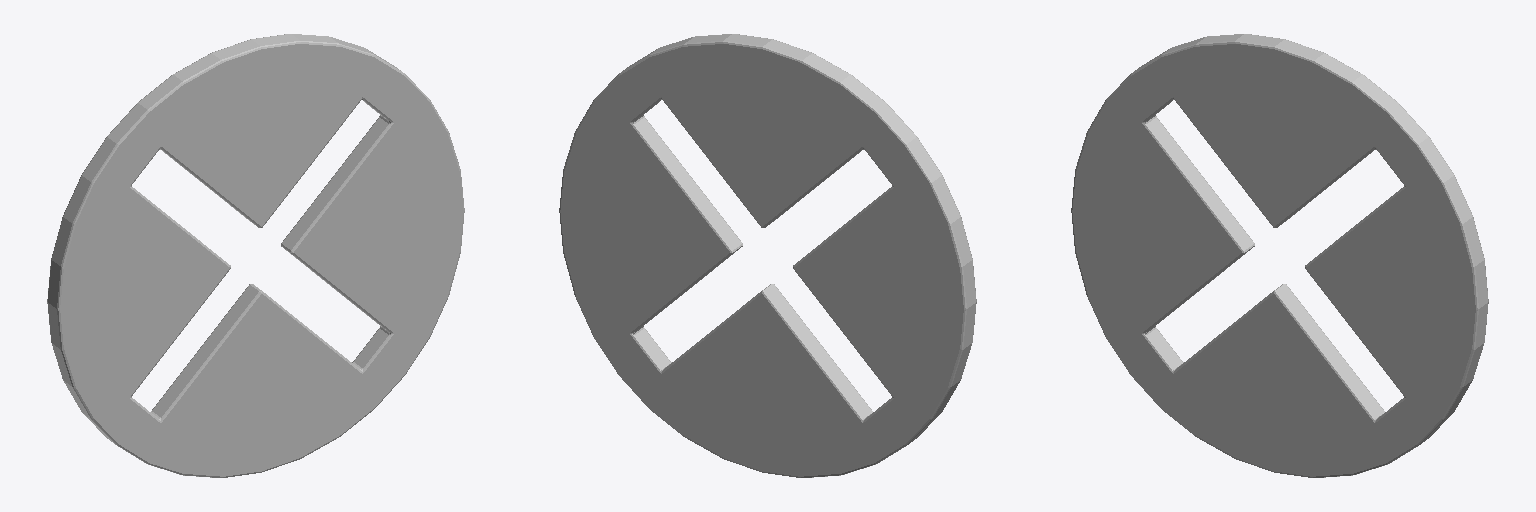
Rendered from close.obj.
3 views of the same model, side by side, from view 1: azimuth 30°, elevation 25°; view 2: azimuth 150°, elevation 25°; view 3: azimuth 330°, elevation 25° (orthographic).
Visible parts, largest first — view 1: Cube; view 2: Cube; view 3: Cube.
Part boxes in pixels (left/top/right/bottom): Cube: left=47, top=34, right=464, bottom=477; Cube: left=559, top=34, right=976, bottom=477; Cube: left=1071, top=34, right=1488, bottom=477.
Bounding box in the file's own units: 2 × 2 × 0.1.